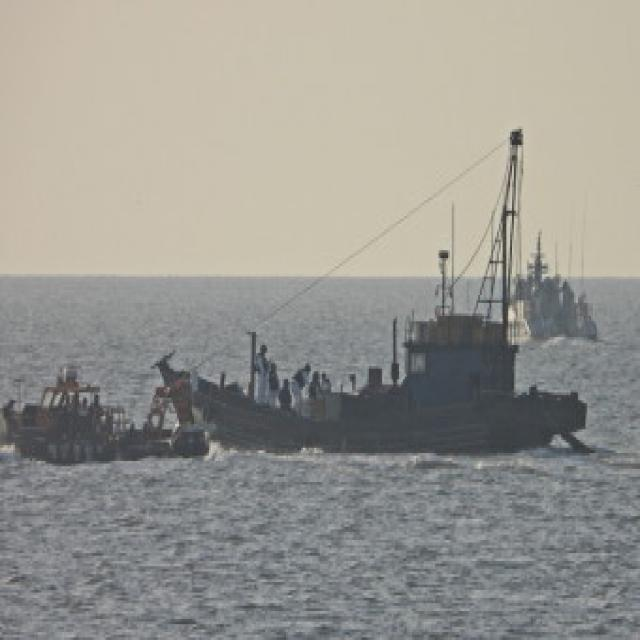Ship: (139, 122, 606, 483)
